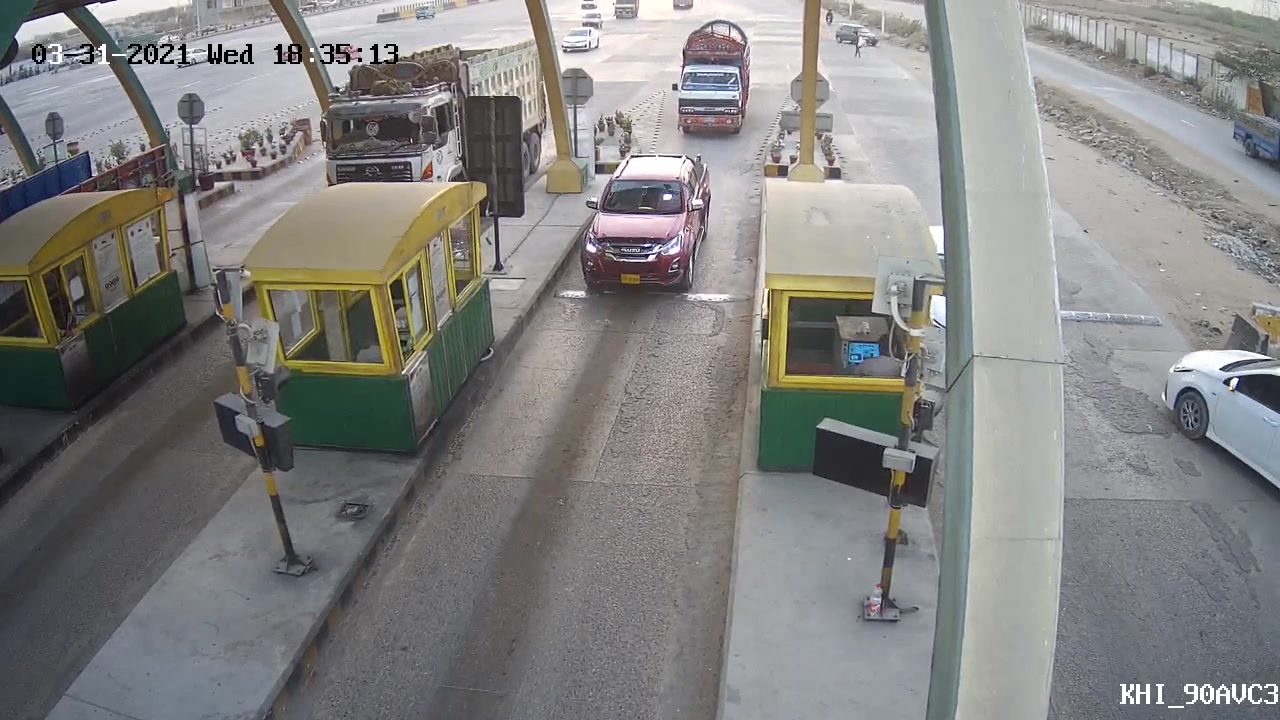F1: (569, 146, 717, 300)
